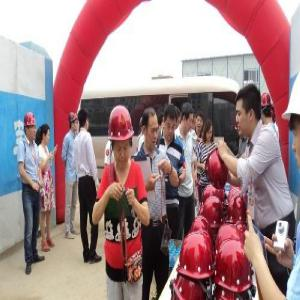none: (235, 82, 263, 140), (142, 107, 161, 151), (163, 102, 178, 141), (181, 104, 195, 134), (79, 107, 91, 133), (40, 124, 52, 148), (204, 121, 215, 144), (195, 111, 204, 131)
red: (108, 105, 135, 169), (23, 112, 38, 144), (262, 93, 274, 124), (69, 110, 80, 134)
